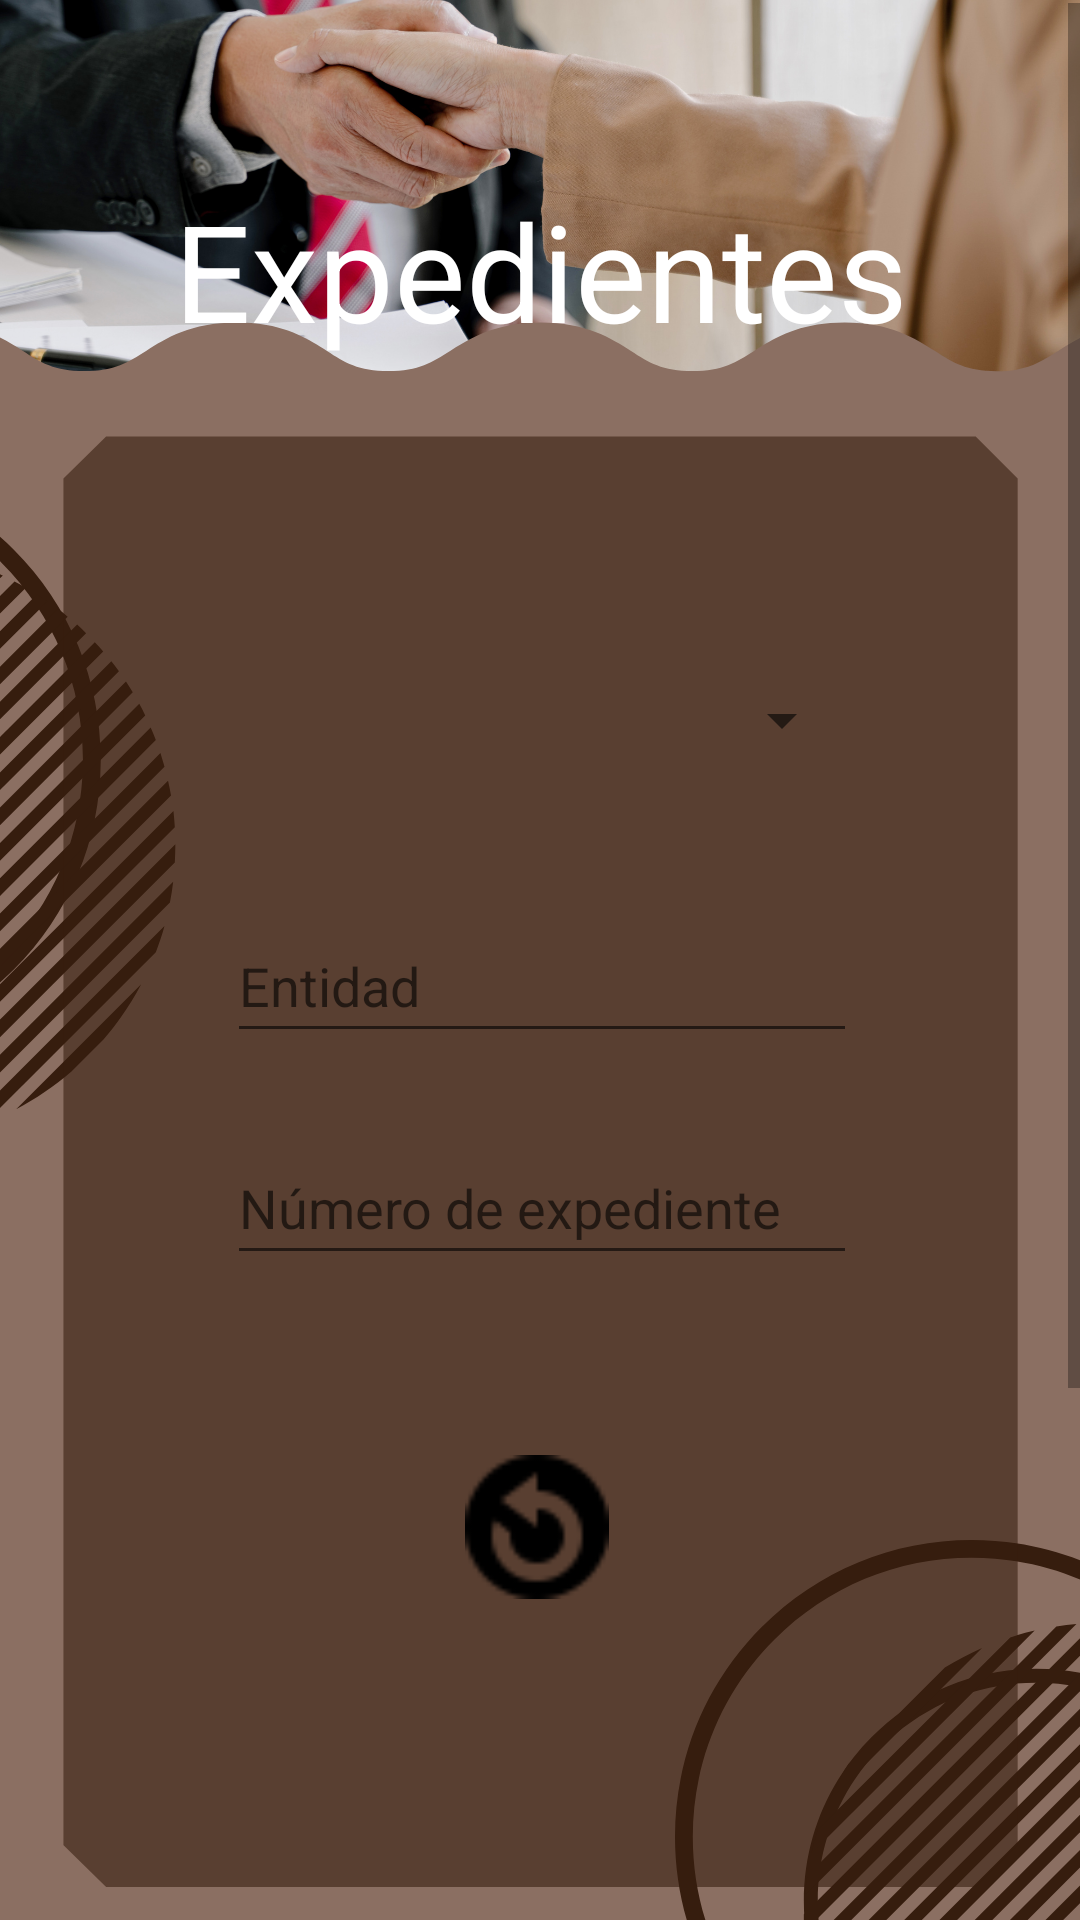

Screen size 1080x1920. Icon name, then its center in pixels as [x,y]:
actualizar: [537,1527]
